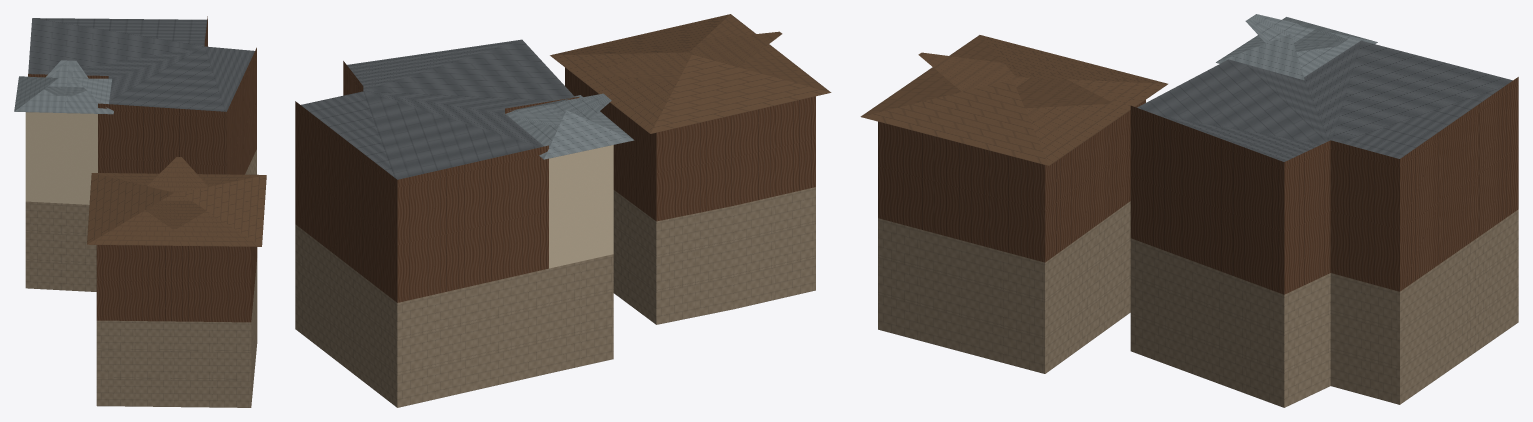
Rendered from bld_c18_9_566.gltf.
3 renders of one model, left to right at view 1: azimuth 30°, elevation 25°; view 2: azimuth 150°, elevation 25°; view 3: azimuth 270°, elevation 25°, orthographic. The views are drawn at different scales.
Parts seen in each view (by area): view 1: bld_c18_9_566; view 2: bld_c18_9_566; view 3: bld_c18_9_566.
Boxes of the visible parts, x1,y1,x2,y2 form: bld_c18_9_566: (14,16,266,407); bld_c18_9_566: (295,14,831,407); bld_c18_9_566: (860,14,1518,407).
Bounding box in the file's own units: 17.63 × 12.8 × 26.9.
7 materials, 7 textured.
